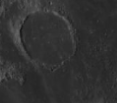crater: (9, 4, 97, 88)
